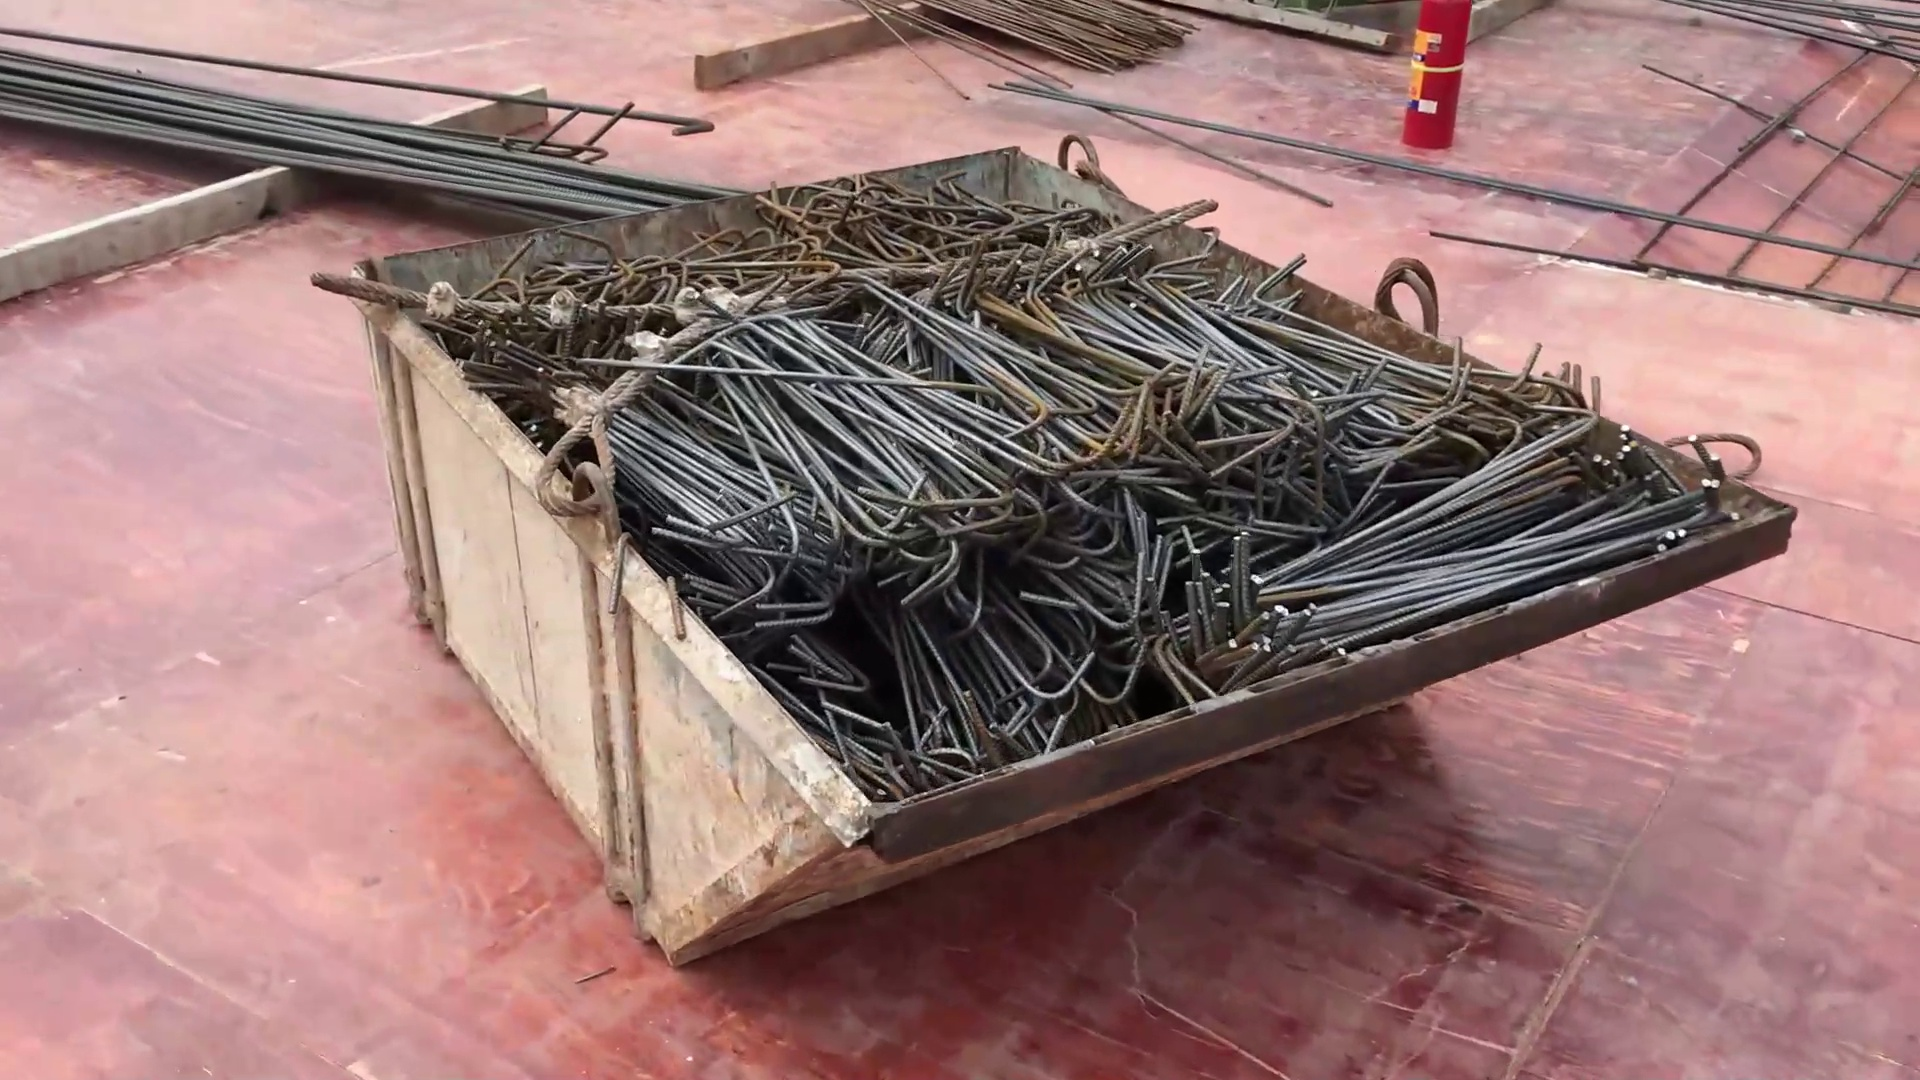hopper: (335, 138, 1807, 985)
rebar: (1, 18, 785, 225)
